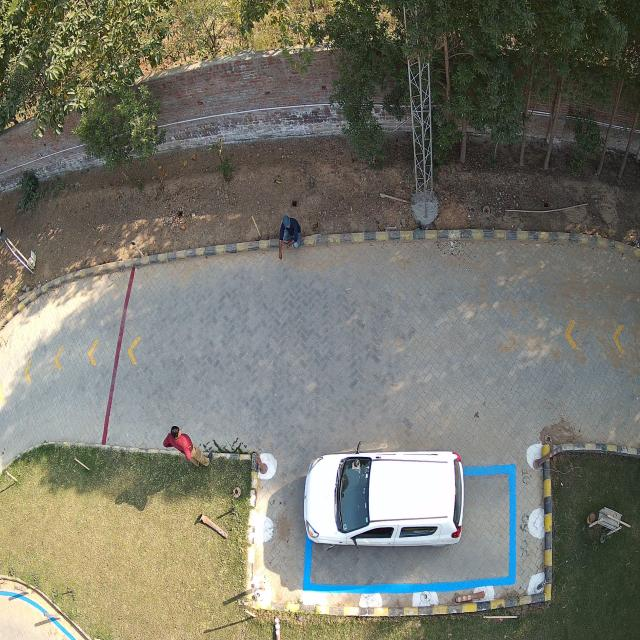car: (303, 450, 467, 549)
